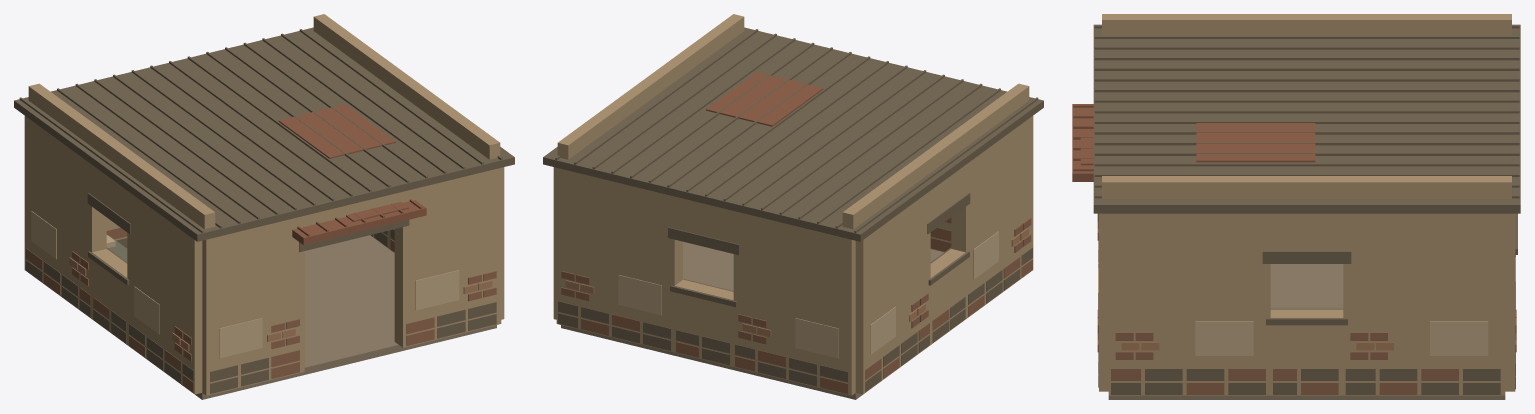
The model's file is FSA_ENV_Abandoned_House_01_Compact.glb.
The picture shows the model from 3 angles, left to right: view 1: azimuth 30°, elevation 25°; view 2: azimuth 150°, elevation 25°; view 3: azimuth 270°, elevation 25°; orthographic projection. The views are drawn at different scales.
Parts seen in each view (by area): view 1: Roof_Main, FrontRight, FrontLeft, Floor, WestRight, WestLeft, RoofParapet_209, RoofParapet_210, RoofPatch_208, WestSill, Roof_EntryPatch, Repair_33 (+24 smaller); view 2: Roof_Main, BackLeft, BackRight, WestLeft, WestRight, RoofParapet_209, RoofParapet_210, RoofPatch_208, Floor, BackSill, WestSill, BackLintel (+24 smaller); view 3: Roof_Main, EastRight, EastLeft, RoofParapet_210, RoofParapet_209, Floor, RoofPatch_208, EastSill, EastLintel, Repair_156, Repair_178, BackRight (+34 smaller).
Part boxes in pixels (x1,y1,x2,y2): Roof_Main: (14, 27, 514, 241); FrontRight: (394, 168, 501, 347); FrontLeft: (202, 216, 304, 395); Floor: (195, 235, 496, 399); WestRight: (127, 191, 202, 394); WestLeft: (24, 116, 106, 318); RoofParapet_209: (28, 83, 215, 229); RoofParapet_210: (313, 14, 500, 159); RoofPatch_208: (278, 104, 395, 158); WestSill: (92, 249, 127, 344); Roof_EntryPatch: (292, 200, 426, 245); Repair_33: (415, 270, 459, 310); Roof_Main: (543, 27, 1043, 241); BackLeft: (733, 211, 855, 395); BackRight: (556, 168, 682, 352); WestLeft: (855, 191, 930, 394); WestRight: (951, 116, 1033, 318); RoofParapet_209: (842, 83, 1029, 229); RoofParapet_210: (557, 14, 744, 159); RoofPatch_208: (706, 72, 823, 126); Floor: (561, 241, 943, 399); BackSill: (674, 279, 733, 366); WestSill: (930, 249, 965, 344); BackLintel: (674, 196, 733, 242); Roof_Main: (1093, 24, 1520, 213); EastRight: (1108, 213, 1270, 395); EastLeft: (1343, 213, 1505, 395); RoofParapet_210: (1102, 176, 1511, 198); RoofParapet_209: (1102, 14, 1511, 35); Floor: (1108, 264, 1505, 399); RoofPatch_208: (1196, 123, 1315, 162); EastSill: (1270, 309, 1343, 395); EastLintel: (1270, 213, 1343, 251); Repair_156: (1430, 321, 1488, 355); Repair_178: (1195, 321, 1253, 355); BackRight: (1505, 213, 1515, 391).
Size of the model in its own units: 6.46 by 3.64 by 6.78.
